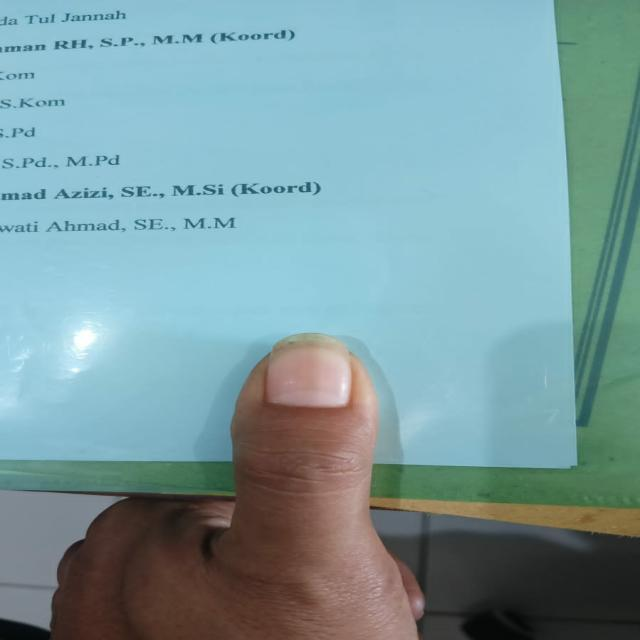sehat: (265, 346, 353, 408)
